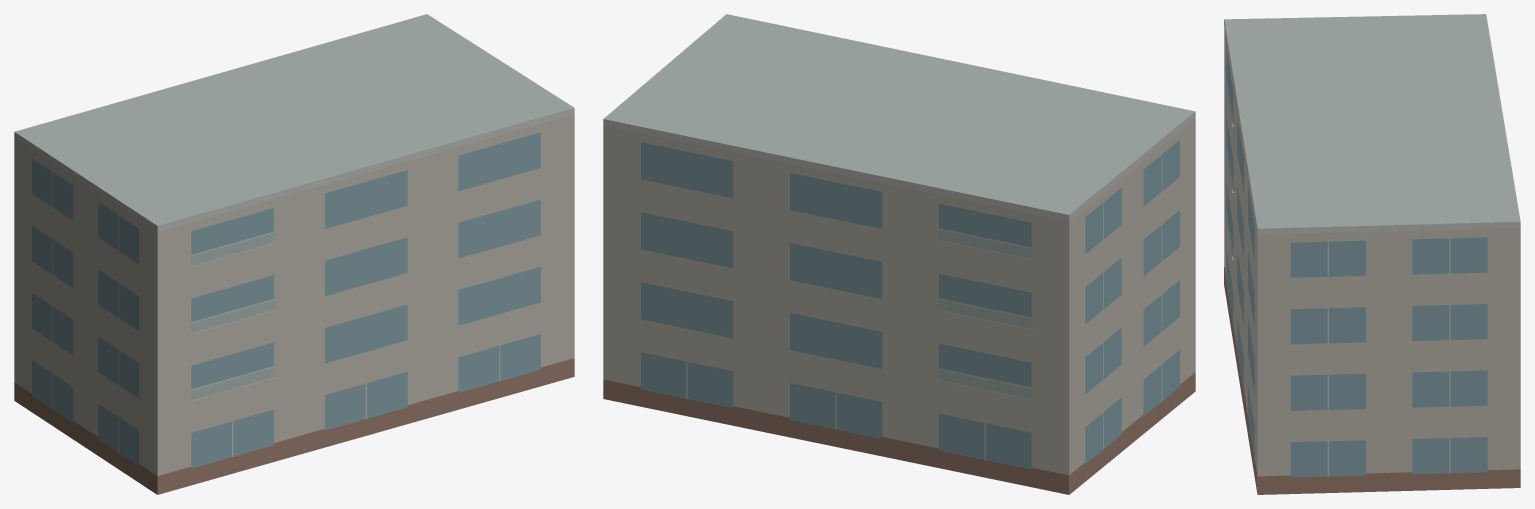
Rendered from survey-upis-32758993.glb.
The picture shows the model from 3 angles, left to right: view 1: azimuth 30°, elevation 25°; view 2: azimuth 150°, elevation 25°; view 3: azimuth 270°, elevation 25°; orthographic projection. The views are drawn at different scales.
Visible parts, largest first — view 1: survey-upis-32758993.tmp; view 2: survey-upis-32758993.tmp; view 3: survey-upis-32758993.tmp.
Boxes of the visible parts, x1,y1,x2,y2 form: survey-upis-32758993.tmp: [14, 14, 574, 494]; survey-upis-32758993.tmp: [603, 14, 1195, 494]; survey-upis-32758993.tmp: [1224, 14, 1520, 494].
Size of the model in its own units: 18.18 by 10.5 by 10.61.
